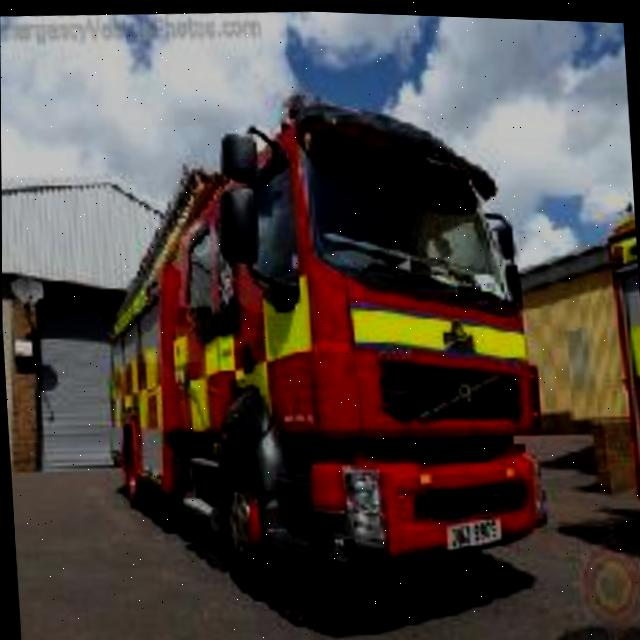emergency: (72, 106, 556, 592)
